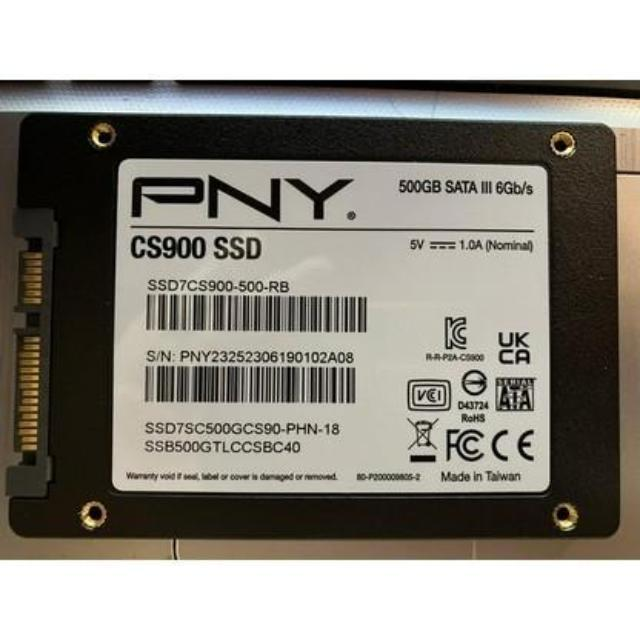DISK: (8, 111, 618, 544)
